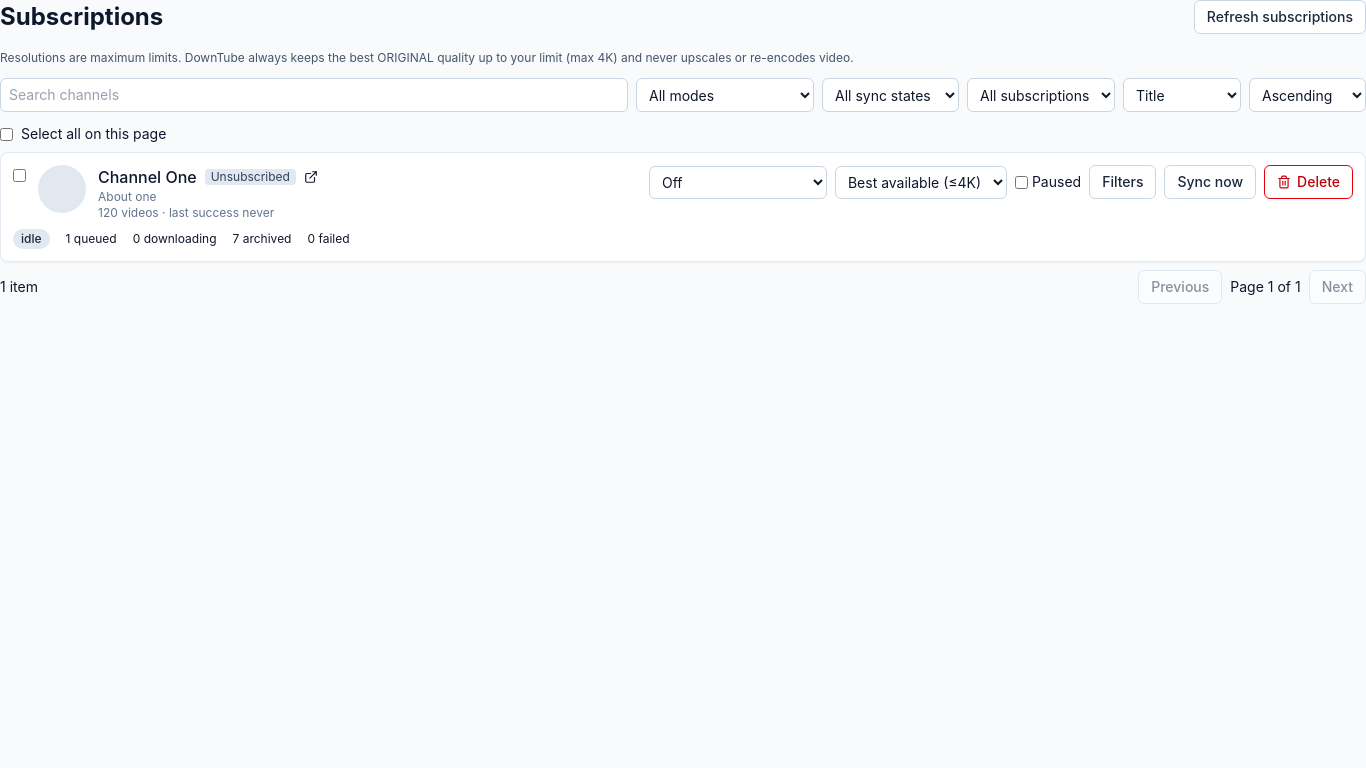
Test: SubscriptionsPage › deletes an unsubscribed channel and keeps its archive
Click the button with aria-label "Delete Channel One" at (1309, 182), box [1264, 165, 1353, 199]
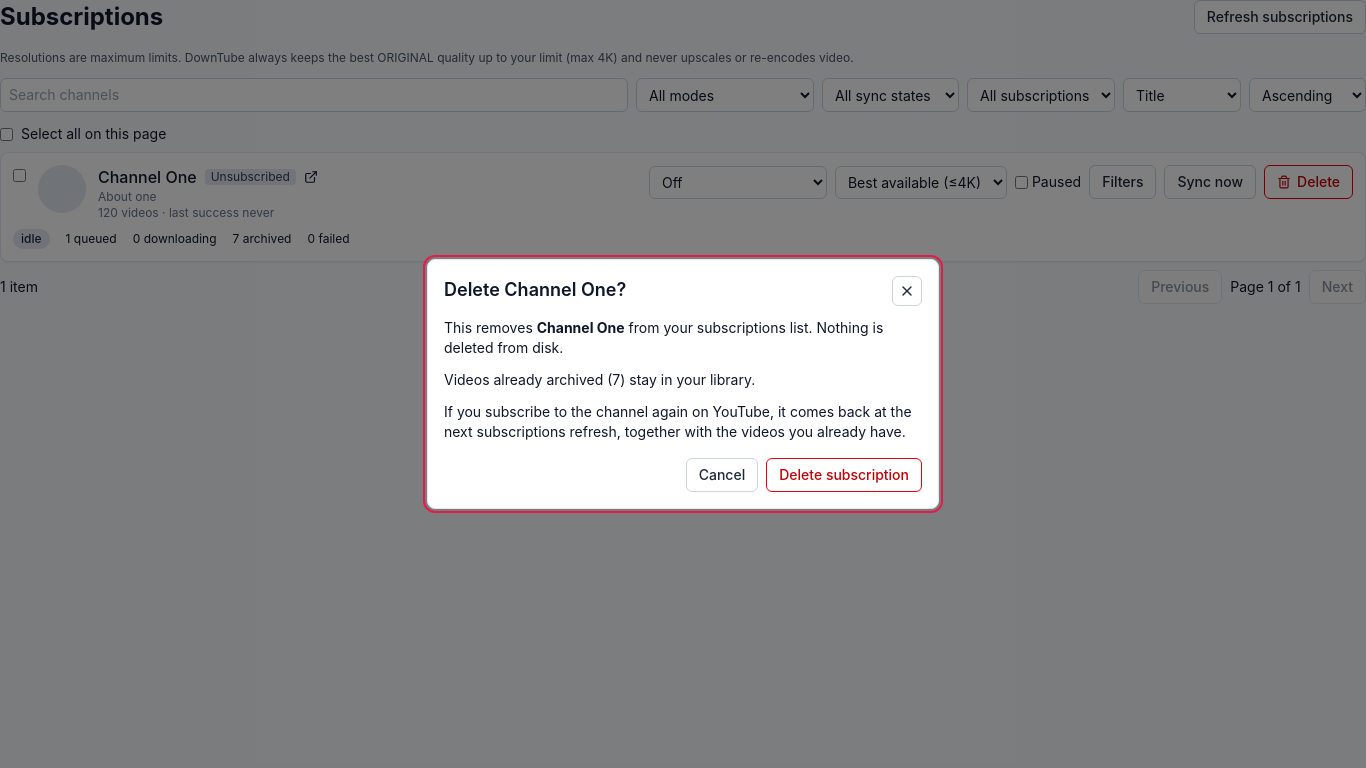
Now the dialog "Delete Channel One" shows "Videos already archived (7) stay in your library", box [427, 259, 939, 509]
Now the dialog "Delete Channel One" shows "subscribe to the channel again", box [444, 403, 912, 440]
Click the button "Delete subscription" at (844, 475), box [766, 458, 922, 492]
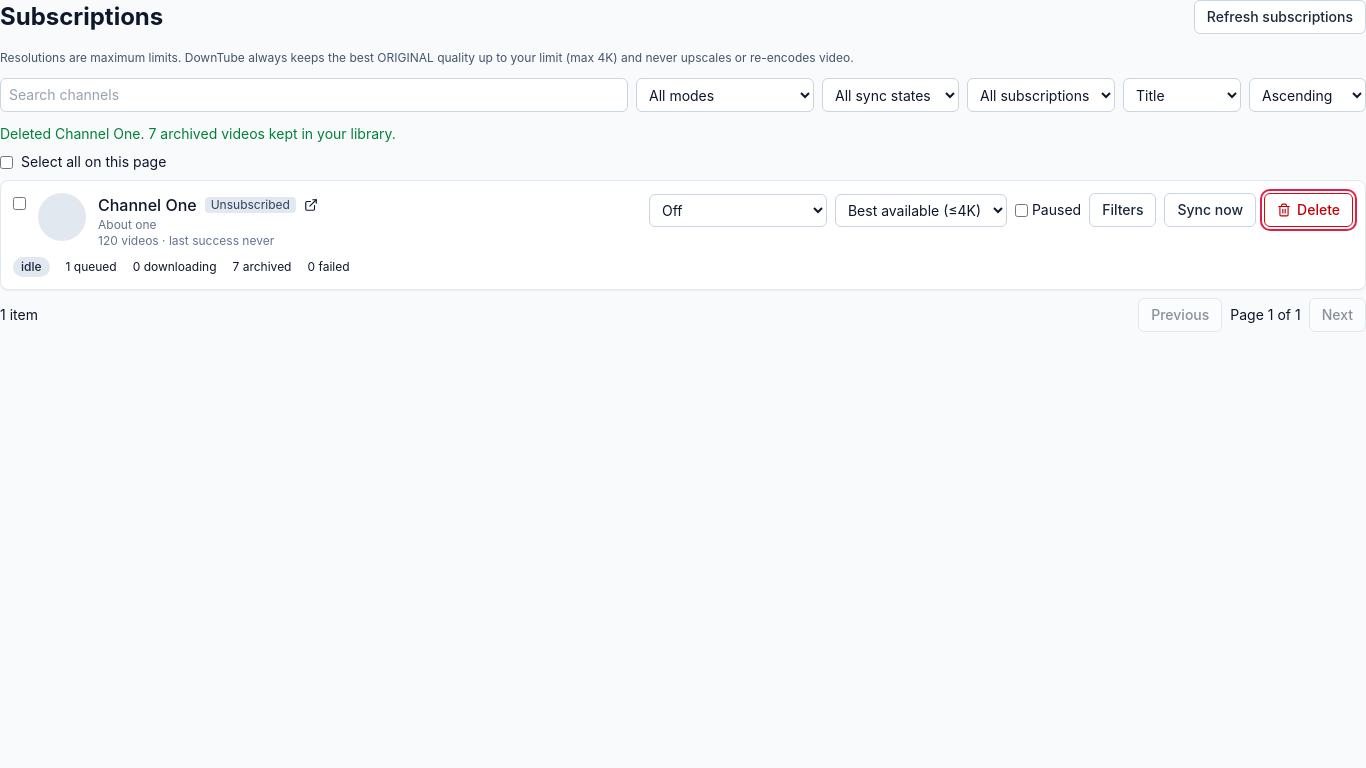
Now the message reads "Deleted Channel One. 7 archived videos kept in your library.", box [0, 125, 396, 142]
